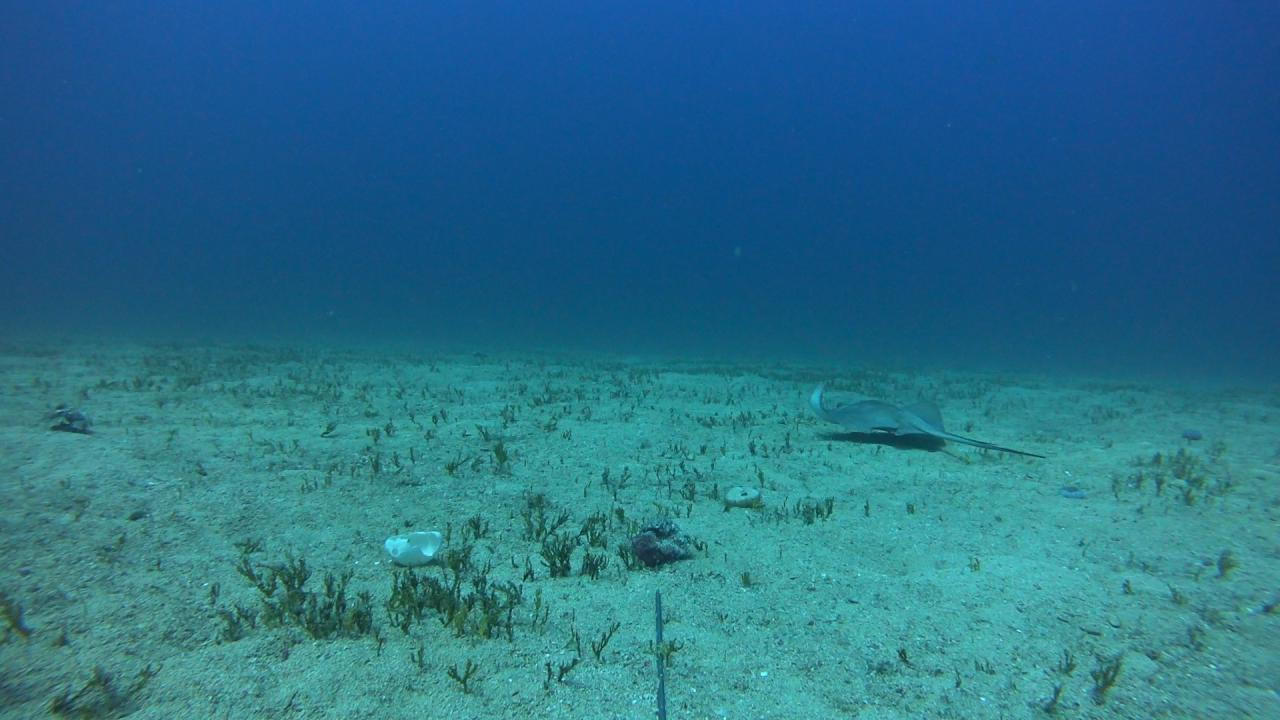dasyatis: (808, 380, 1048, 459)
